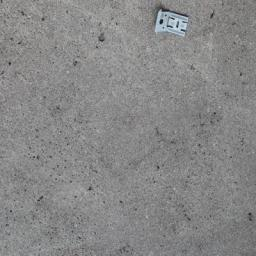FOD: (152, 7, 195, 41)
